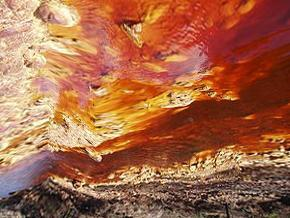Acid Pollution: (0, 0, 290, 168)
